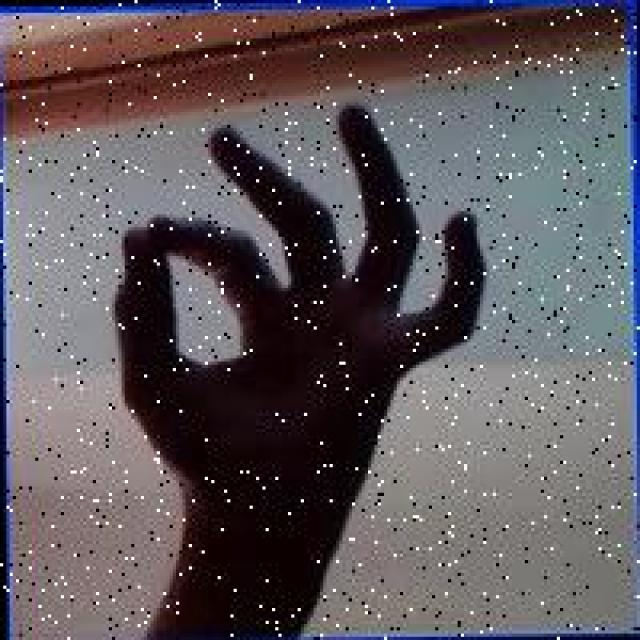F: (108, 96, 490, 490)
